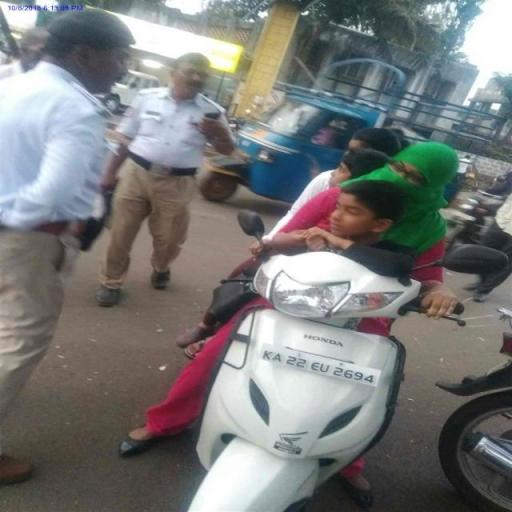tripple riding: (237, 112, 486, 296)
